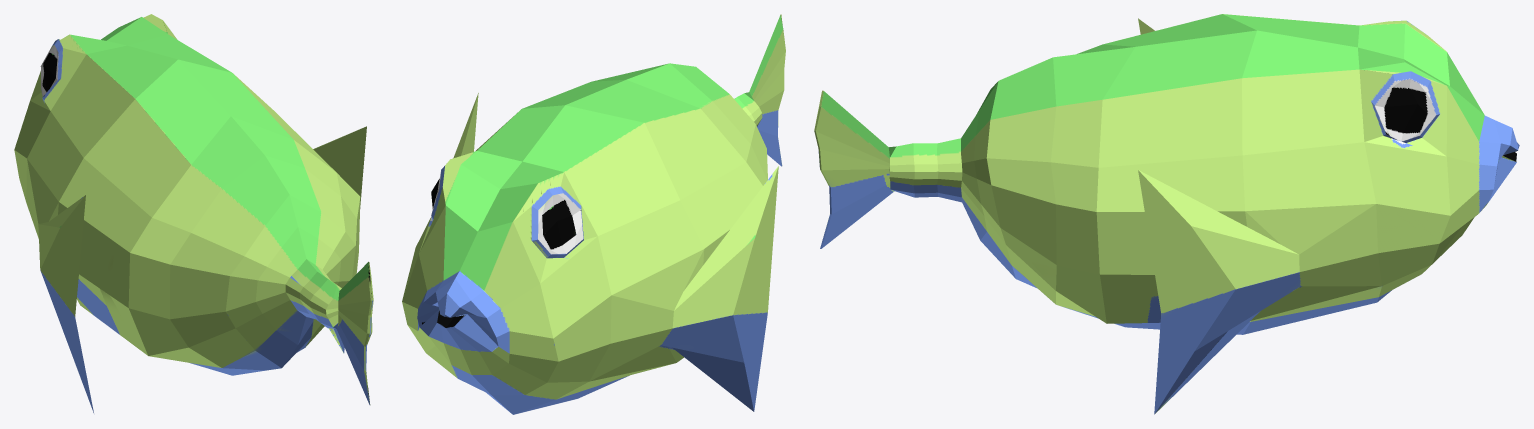
The model's file is pufferfish.gltf.
3 renders of one model, left to right at view 1: azimuth 30°, elevation 25°; view 2: azimuth 150°, elevation 25°; view 3: azimuth 270°, elevation 25°, orthographic. The views are drawn at different scales.
Visible parts, largest first — view 1: Cylinder; view 2: Cylinder; view 3: Cylinder.
Part boxes in pixels (<box>): Cylinder: <box>14,14,373,412</box>; Cylinder: <box>402,14,785,414</box>; Cylinder: <box>814,14,1519,414</box>.
Bounding box in the file's own units: 1.69 × 1.64 × 3.28.
1 material, 1 textured.
